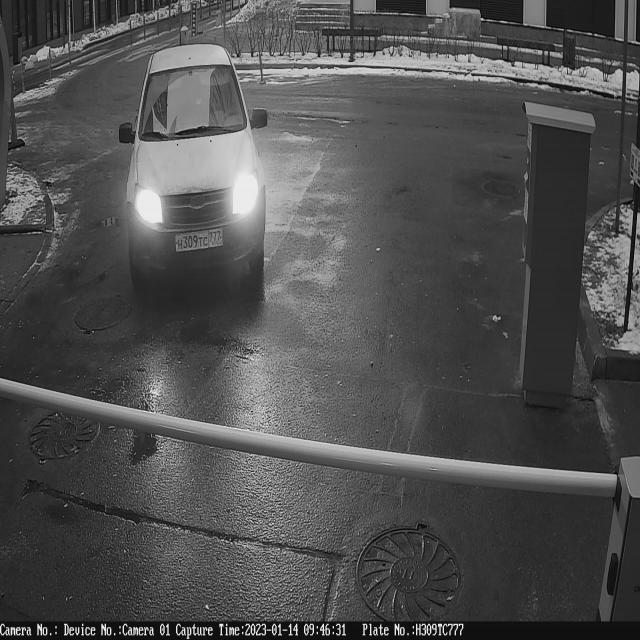car-plate-numbers: (174, 228, 227, 260)
